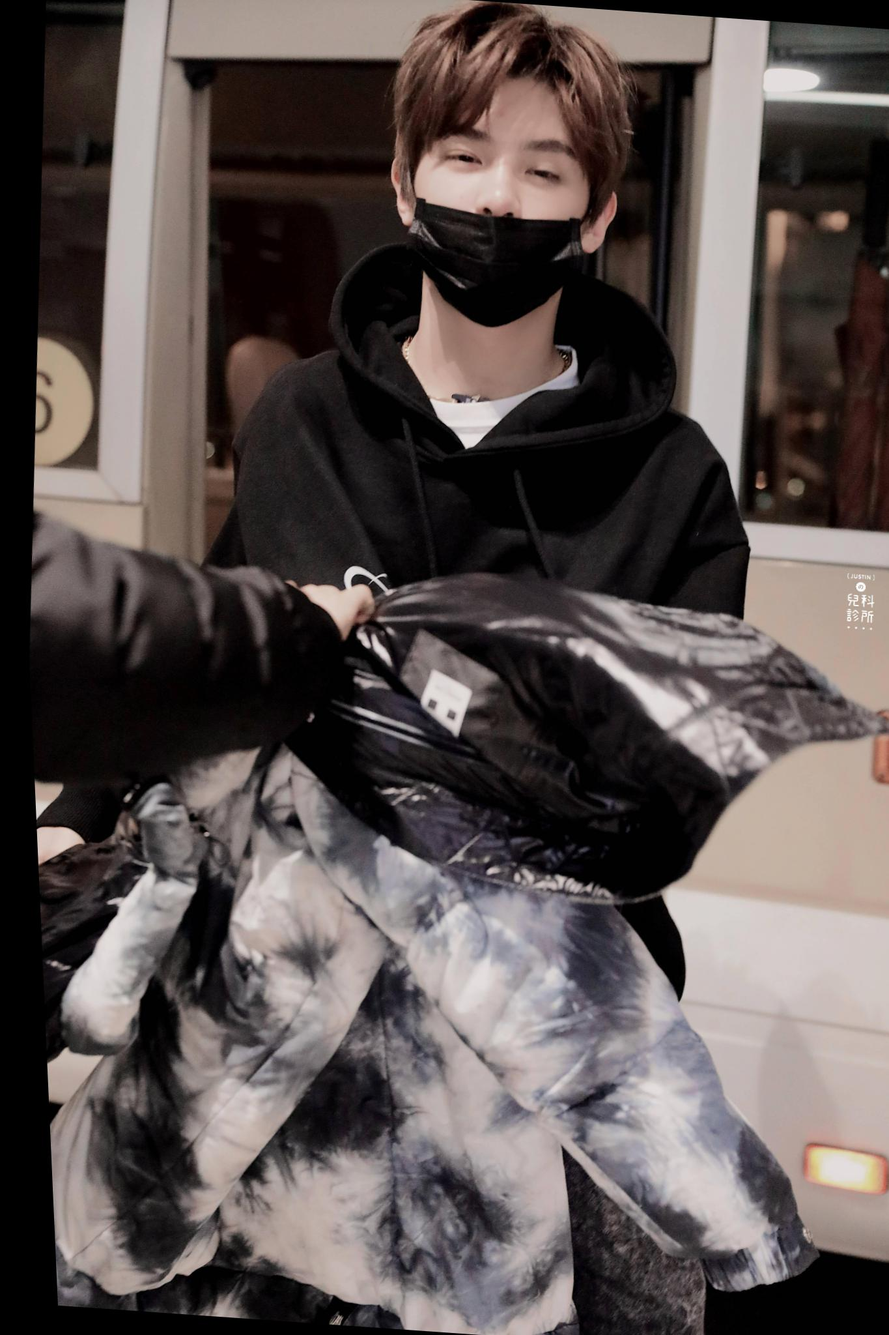WRONG: (398, 95, 595, 325)
